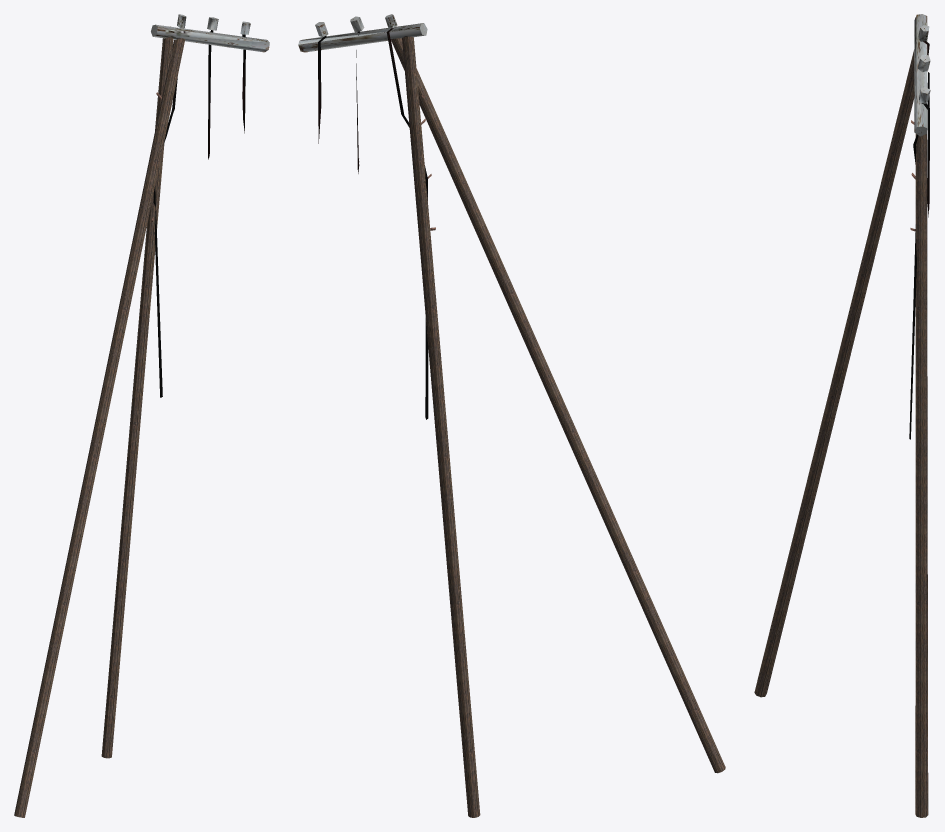
The model's file is telepol3.glb.
3 views of the same model, side by side, from view 1: azimuth 30°, elevation 25°; view 2: azimuth 150°, elevation 25°; view 3: azimuth 270°, elevation 25° (orthographic). The views are drawn at different scales.
Parts seen in each view (by area): view 1: _telepol3; view 2: _telepol3; view 3: _telepol3.
Part boxes in pixels (x1=…): _telepol3: x1=14, y1=14, x2=269, y2=817; _telepol3: x1=298, y1=14, x2=725, y2=817; _telepol3: x1=754, y1=14, x2=930, y2=817.
Bounding box in the file's own units: 9.25 × 19.78 × 3.8.
1 material, 1 textured.
